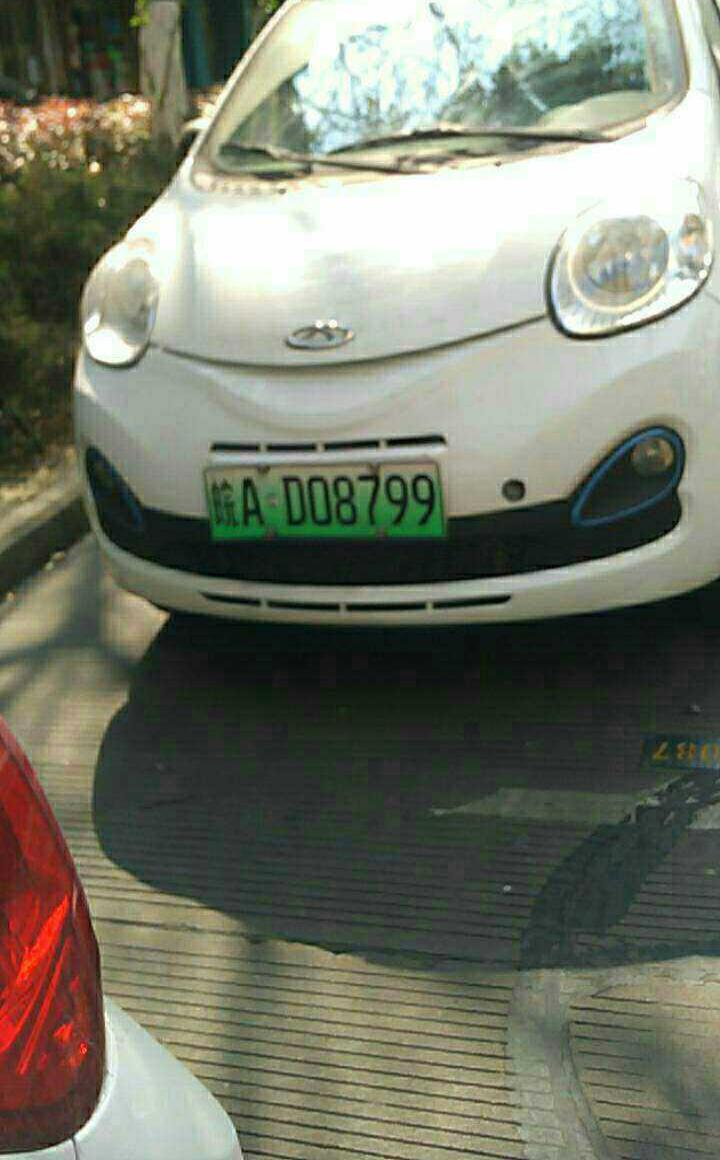car: (196, 468, 439, 542)
